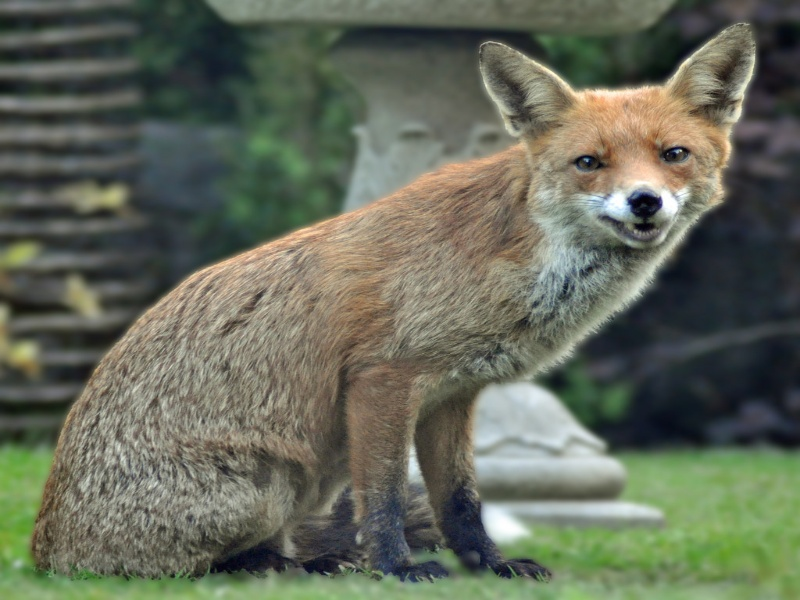fox: (25, 17, 761, 585)
